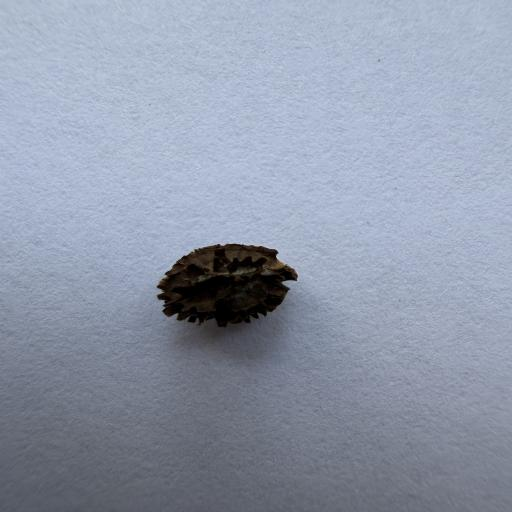papaya_seed: (142, 231, 303, 331)
